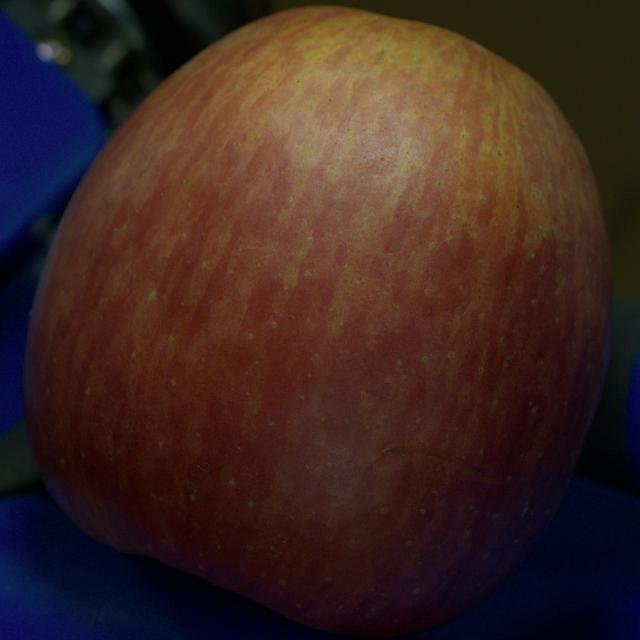apple: (24, 8, 611, 636)
scratch: (375, 447, 494, 480)
